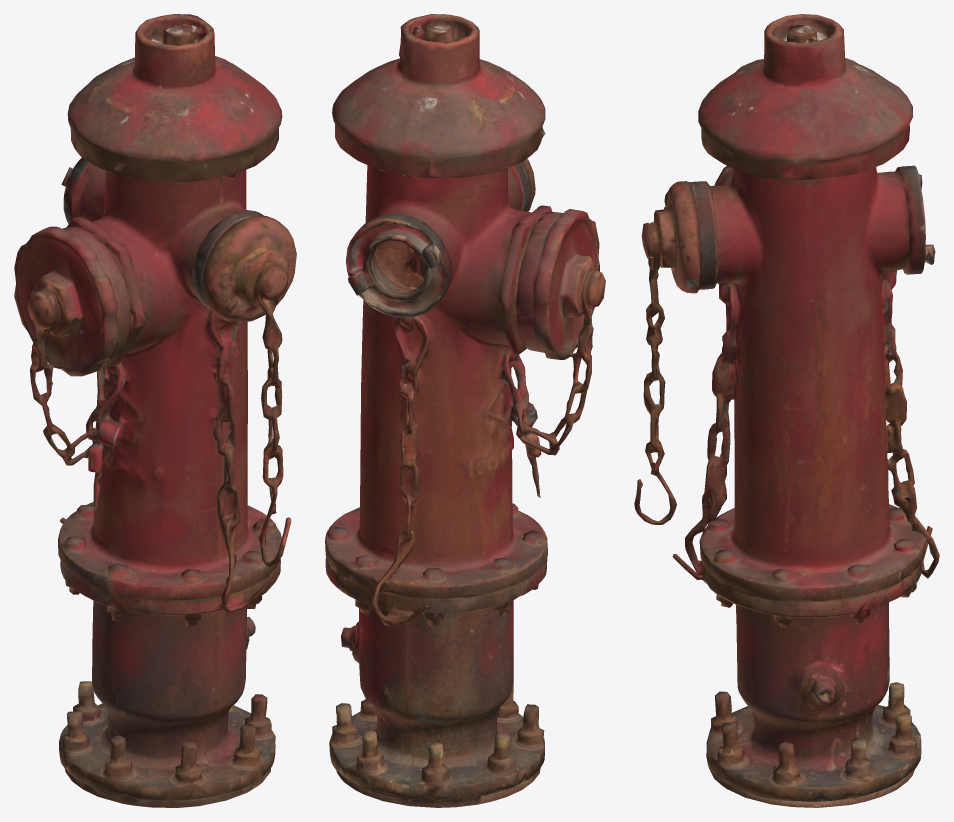
File: PX_Fire_Hydrant_01_LOD3.fbx
3 views of the same model, side by side, from view 1: azimuth 30°, elevation 25°; view 2: azimuth 150°, elevation 25°; view 3: azimuth 270°, elevation 25° (orthographic).
Parts seen in each view (by area): view 1: PX_Fire_Hydrant_01_LOD3; view 2: PX_Fire_Hydrant_01_LOD3; view 3: PX_Fire_Hydrant_01_LOD3.
Part boxes in pixels (x1,y1,x2,y2): PX_Fire_Hydrant_01_LOD3: [14, 14, 296, 807]; PX_Fire_Hydrant_01_LOD3: [325, 14, 605, 807]; PX_Fire_Hydrant_01_LOD3: [634, 14, 939, 807].
Size of the model in its own units: 27.48 by 77.88 by 29.28.
